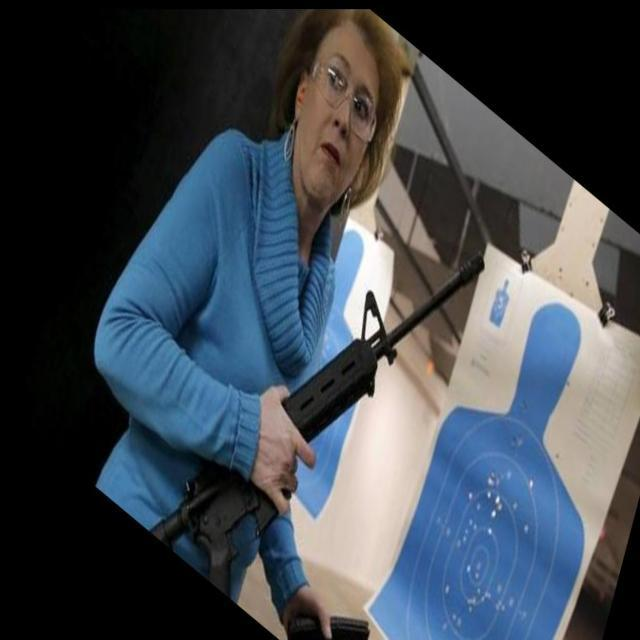weapon: (151, 249, 486, 640)
